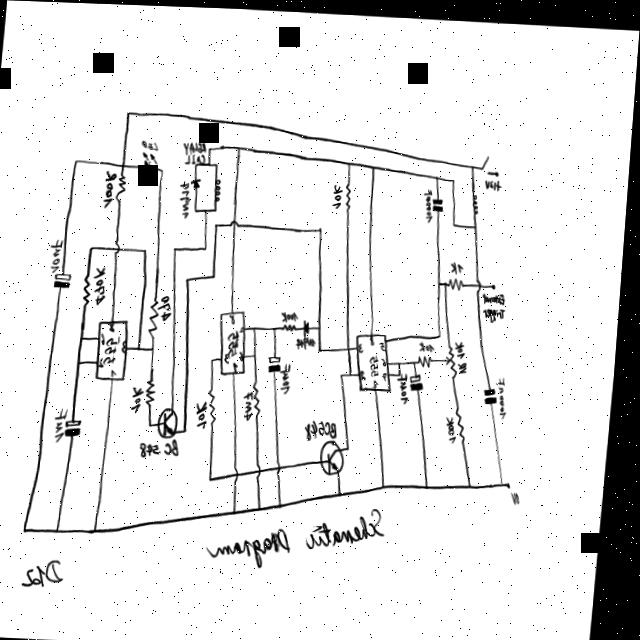capacitor: (69, 417, 88, 436), (56, 270, 75, 288), (413, 369, 429, 387), (271, 352, 286, 370), (488, 382, 502, 400), (434, 193, 446, 208)
crossover: (114, 239, 123, 253), (238, 463, 245, 480), (478, 274, 485, 288), (231, 217, 242, 225), (261, 458, 266, 475), (281, 456, 286, 471), (349, 342, 355, 348)
diode: (141, 149, 160, 175), (306, 316, 314, 334), (191, 175, 203, 186)
inductor: (214, 175, 223, 200), (473, 188, 480, 211)
junction: (82, 331, 89, 340), (98, 524, 105, 532), (262, 500, 269, 508), (80, 356, 86, 365), (29, 524, 35, 532), (187, 424, 193, 432), (386, 478, 392, 486), (214, 473, 220, 480), (343, 368, 349, 375), (174, 243, 180, 250), (154, 343, 160, 350), (74, 156, 80, 163), (61, 525, 67, 532), (347, 156, 353, 163), (238, 506, 244, 513), (350, 440, 356, 447), (90, 243, 97, 249), (126, 108, 132, 114), (430, 479, 436, 485), (188, 273, 193, 280), (205, 242, 210, 249), (216, 219, 221, 226), (145, 245, 150, 252), (320, 222, 325, 229), (343, 486, 348, 493), (372, 160, 377, 167), (440, 328, 445, 335), (195, 204, 200, 211), (284, 499, 289, 506), (122, 160, 126, 168), (153, 419, 158, 425), (214, 270, 219, 276), (161, 165, 166, 171), (276, 322, 281, 328), (237, 142, 242, 148), (475, 219, 480, 225), (452, 173, 457, 179), (436, 170, 441, 176), (473, 478, 478, 484), (256, 349, 261, 355), (140, 343, 145, 349), (208, 159, 213, 164), (322, 343, 326, 349), (454, 217, 458, 223), (472, 159, 476, 165), (214, 354, 218, 360), (440, 277, 444, 282), (216, 159, 220, 164), (446, 276, 450, 281), (256, 323, 260, 328), (215, 205, 219, 210), (205, 205, 209, 210), (416, 356, 420, 360), (195, 160, 199, 164), (209, 144, 213, 148), (402, 356, 405, 361), (353, 368, 356, 373), (402, 368, 405, 372), (506, 477, 509, 481), (321, 322, 324, 326)
resistor: (457, 401, 473, 438), (447, 340, 463, 374), (151, 295, 164, 333), (257, 376, 268, 415), (84, 271, 96, 305), (116, 171, 128, 202), (148, 376, 161, 404), (212, 388, 223, 421), (450, 272, 469, 287), (345, 178, 354, 208), (421, 350, 437, 363), (286, 319, 301, 329)
switch: (481, 150, 492, 170)
terminal: (511, 476, 517, 484), (494, 277, 499, 286), (495, 166, 501, 172)
text: (206, 498, 392, 566), (29, 556, 73, 587), (144, 435, 185, 456), (308, 415, 344, 438), (95, 264, 111, 304), (58, 405, 74, 442), (179, 177, 194, 216), (104, 168, 119, 206), (499, 371, 512, 414), (399, 367, 415, 400), (107, 333, 124, 364), (51, 236, 66, 271), (423, 184, 436, 219), (199, 397, 214, 427), (162, 291, 176, 321), (283, 359, 296, 391), (246, 387, 259, 418), (230, 327, 243, 356), (183, 138, 208, 153), (485, 301, 508, 317), (449, 411, 462, 439), (136, 384, 148, 411), (485, 287, 508, 301), (333, 180, 345, 206), (372, 350, 385, 373), (299, 332, 320, 346), (186, 150, 207, 162), (485, 173, 503, 186), (459, 336, 470, 355), (284, 308, 302, 319), (142, 138, 160, 149), (452, 256, 467, 269), (422, 337, 439, 348), (516, 486, 526, 500), (461, 357, 472, 369), (104, 330, 110, 343), (125, 337, 130, 351), (232, 311, 239, 321), (228, 350, 234, 361), (112, 321, 119, 330), (383, 337, 389, 347), (365, 366, 371, 376), (237, 359, 243, 369), (103, 355, 108, 366), (242, 348, 247, 359), (115, 367, 121, 376), (363, 339, 368, 349), (385, 353, 390, 363), (373, 332, 378, 341), (378, 375, 383, 384), (386, 368, 391, 377), (242, 323, 247, 330)
transistor: (324, 436, 350, 472), (161, 404, 185, 436)
